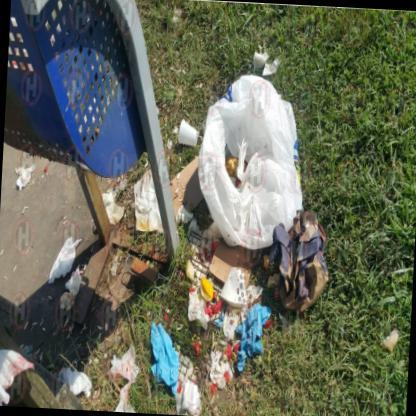Garbage: (190, 58, 309, 254), (254, 196, 342, 341), (52, 338, 148, 412), (230, 292, 281, 384), (136, 315, 186, 405), (158, 347, 212, 408), (42, 233, 86, 302), (217, 132, 254, 192), (180, 272, 218, 324), (0, 342, 29, 407), (252, 42, 280, 82), (8, 159, 34, 202), (170, 113, 201, 149), (222, 270, 247, 300)
